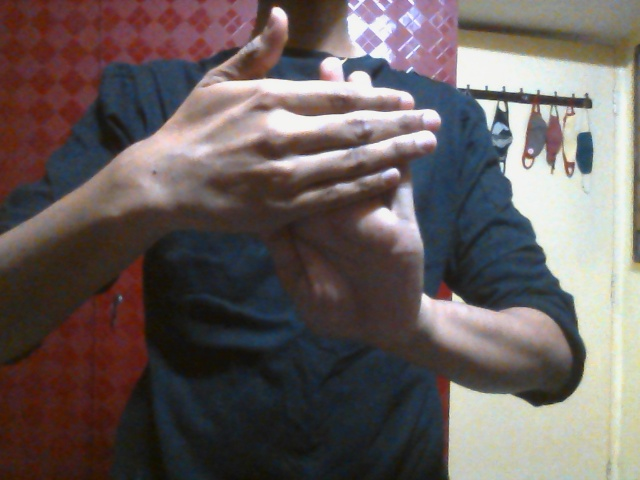H: (171, 6, 442, 339)
